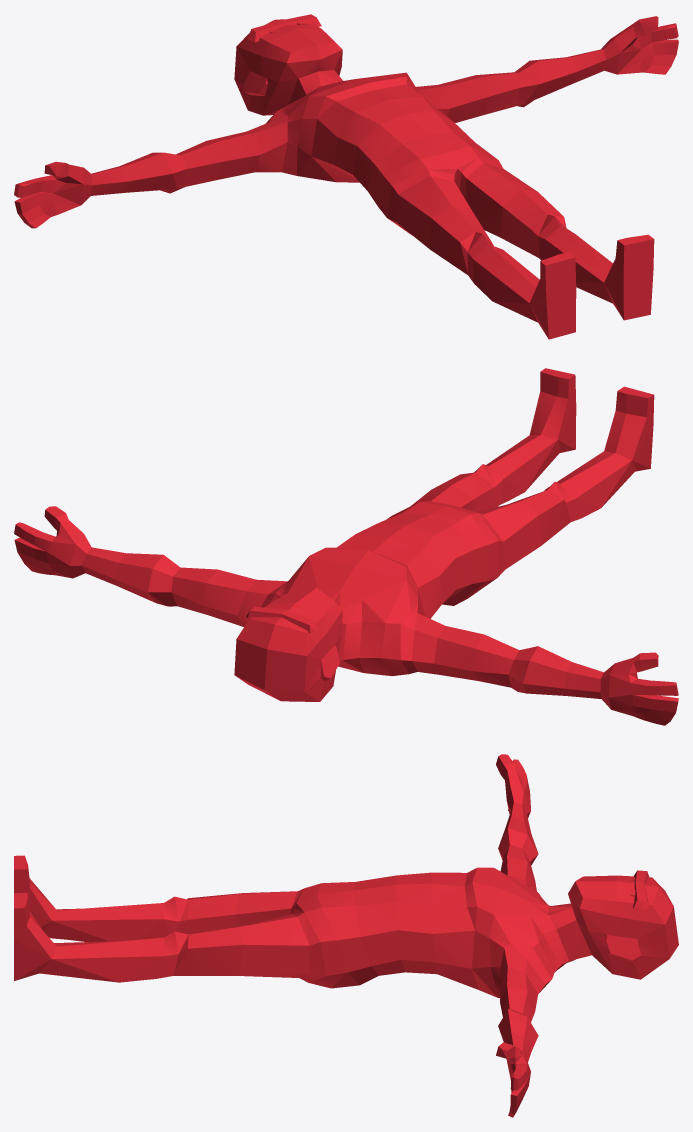
The model's file is enemy_character.fbx.
3 renders of one model, top to bottom at view 1: azimuth 30°, elevation 25°; view 2: azimuth 150°, elevation 25°; view 3: azimuth 270°, elevation 25°, orthographic.
Visible parts, largest first — view 1: Character_Male_Face_01; view 2: Character_Male_Face_01; view 3: Character_Male_Face_01.
Boxes of the visible parts, x1,y1,x2,y2 form: Character_Male_Face_01: [14, 14, 678, 339]; Character_Male_Face_01: [14, 368, 678, 725]; Character_Male_Face_01: [14, 754, 678, 1117].
Bounding box in the file's own units: 20475 × 2947 × 17910.
